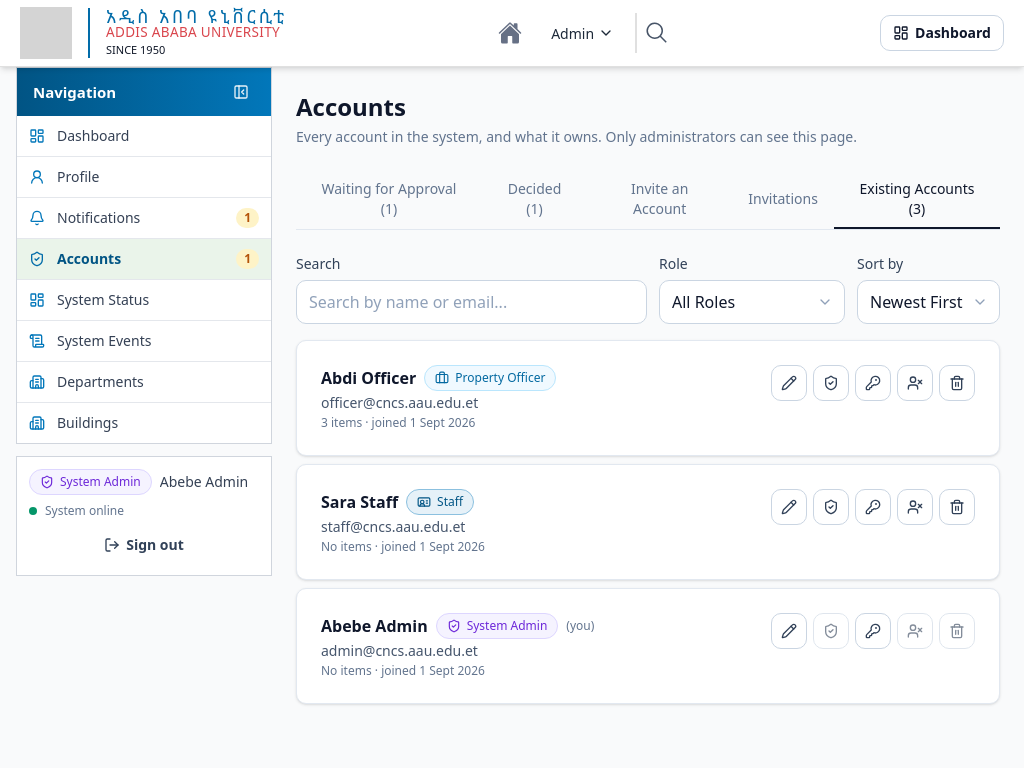
it: /admin/users — the accounts screen › never offers to set another person's password, and sends a reset link instead
The width and height of the screenshot is (1024, 768).
Click the button named "Send a password reset link to staff@cncs.aau.edu.et". click: (873, 507)
box: [855,489,891,525]
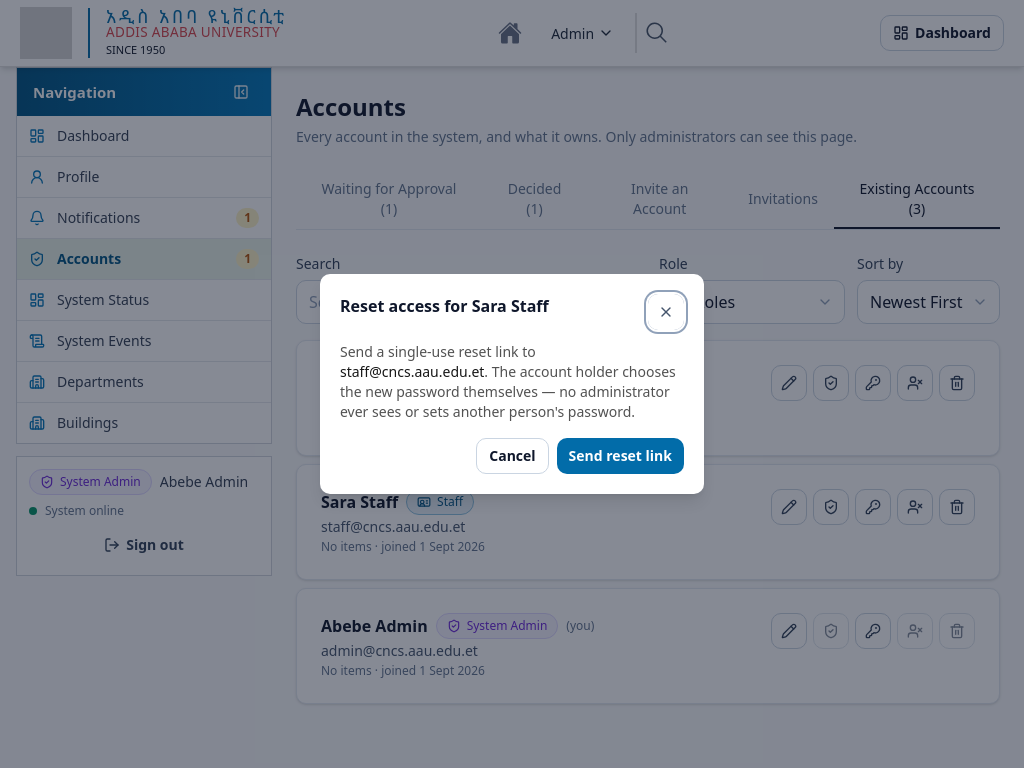
Click the button "Send reset link". click: (620, 456)
box: [557,438,684,474]
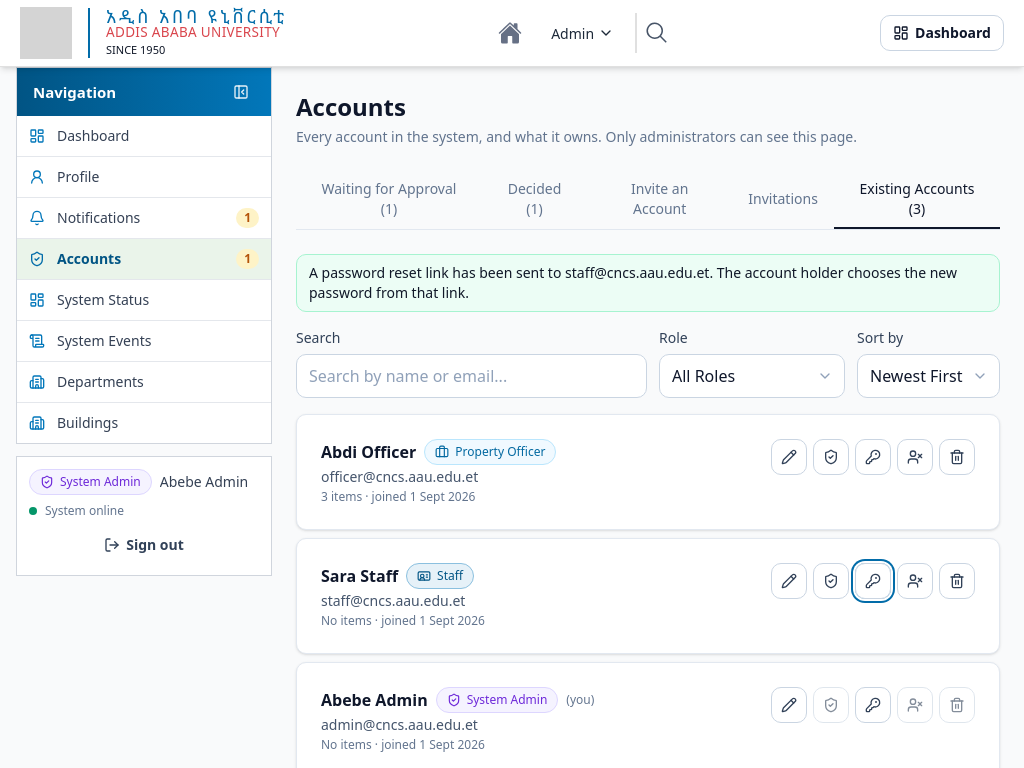
expect the text "A password reset link has been sent to" is shown: met, box [309,263,565,282]
